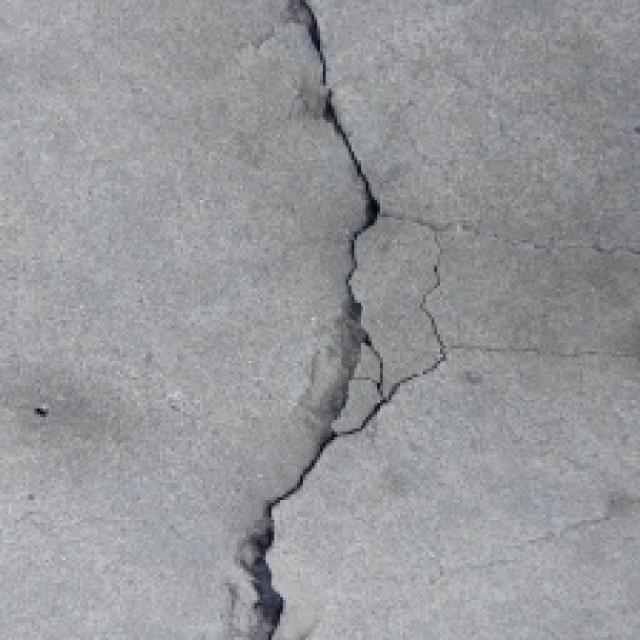SurfaceCrack: (212, 2, 436, 630)
